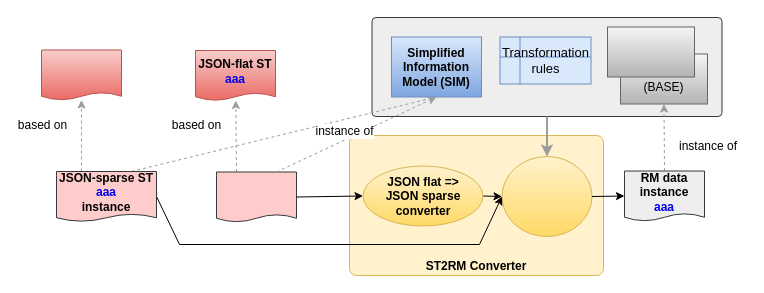
This 764x293 diagram has some shape labels left out. Here are the shapes that lost their labels. From the top down, the centre of each, then its label:
At point (650, 51): "Reference Model (RM)".
At point (81, 74): "JSON-sparse ST aaa".
At point (256, 196): "JSON-flat ST aaa instance".
At point (546, 196): "ST JSON => RM converter".
